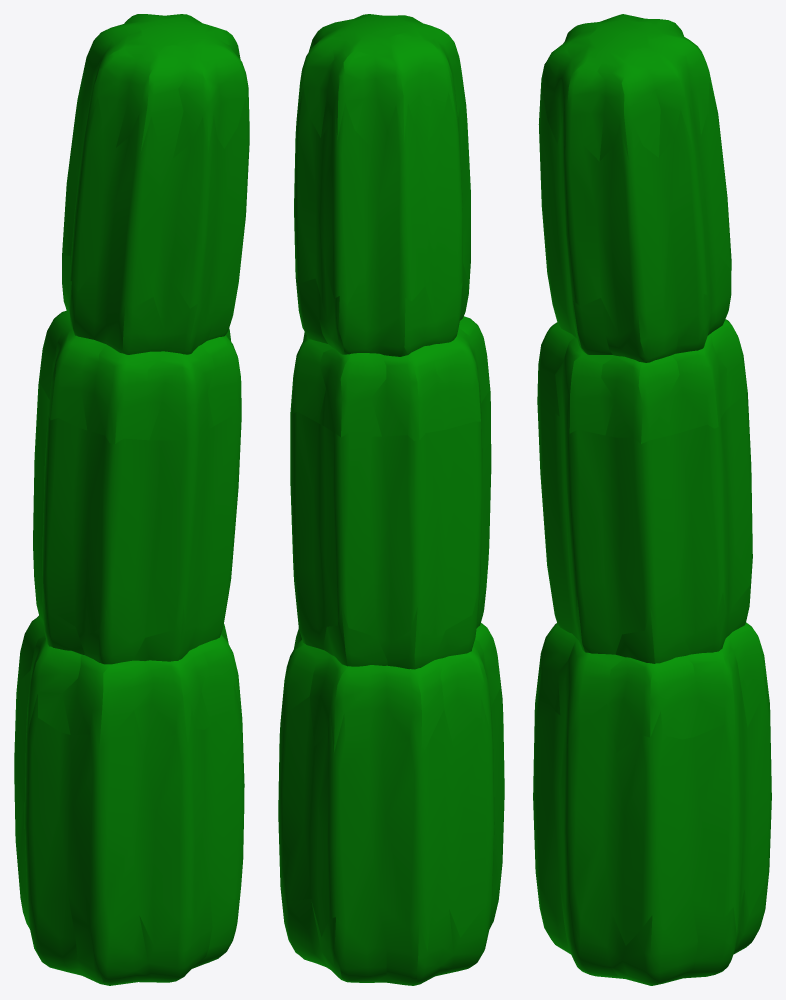
The model's file is Cactus3.fbx.
The picture shows the model from 3 angles, left to right: view 1: azimuth 30°, elevation 25°; view 2: azimuth 150°, elevation 25°; view 3: azimuth 270°, elevation 25°; orthographic projection. The views are drawn at different scales.
Parts seen in each view (by area): view 1: Cactus_lowpoly:Mesh; view 2: Cactus_lowpoly:Mesh; view 3: Cactus_lowpoly:Mesh.
Boxes of the visible parts, box(x1,y1,x2,y2) form: Cactus_lowpoly:Mesh: box(14, 14, 249, 985); Cactus_lowpoly:Mesh: box(278, 14, 504, 985); Cactus_lowpoly:Mesh: box(533, 14, 771, 985).
Size of the model in its own units: 8.16 by 35.58 by 8.16.
